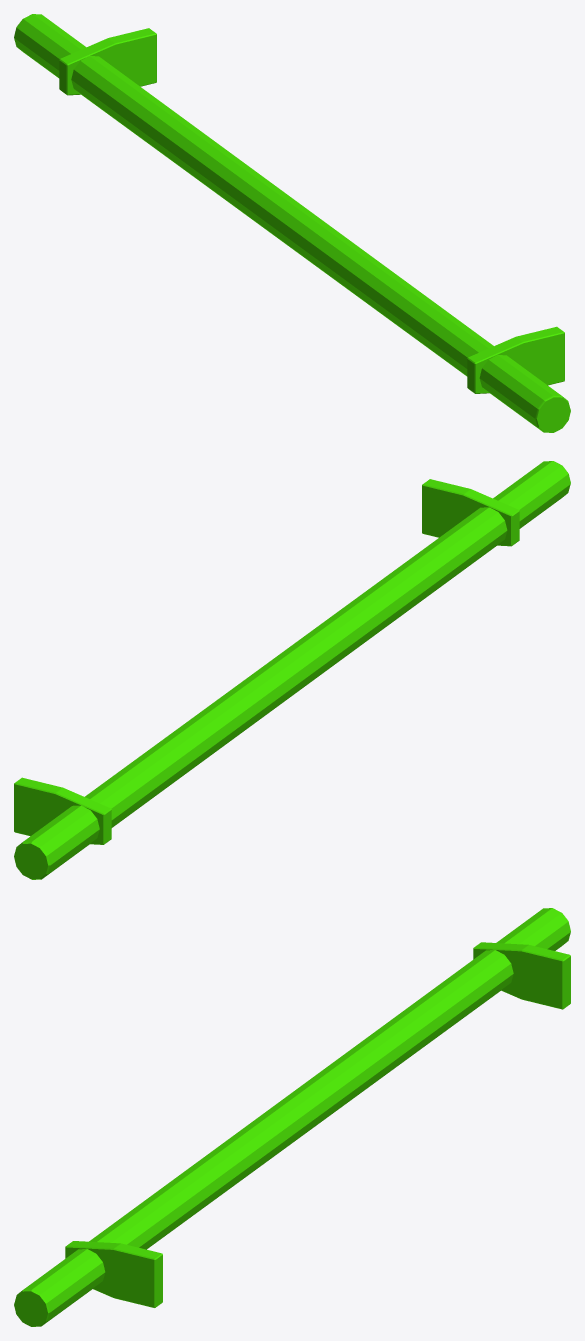
File: Drawer_Handle.fbx
3 renders of one model, top to bottom at view 1: azimuth 30°, elevation 25°; view 2: azimuth 150°, elevation 25°; view 3: azimuth 330°, elevation 25°, orthographic.
Visible parts, largest first — view 1: Drawer_Handle; view 2: Drawer_Handle; view 3: Drawer_Handle.
Boxes of the visible parts, <box> form: Drawer_Handle: <box>14,14,570,432</box>; Drawer_Handle: <box>14,461,570,879</box>; Drawer_Handle: <box>14,908,570,1326</box>.
Size of the model in its own units: 26.62 by 13.92 by 266.
